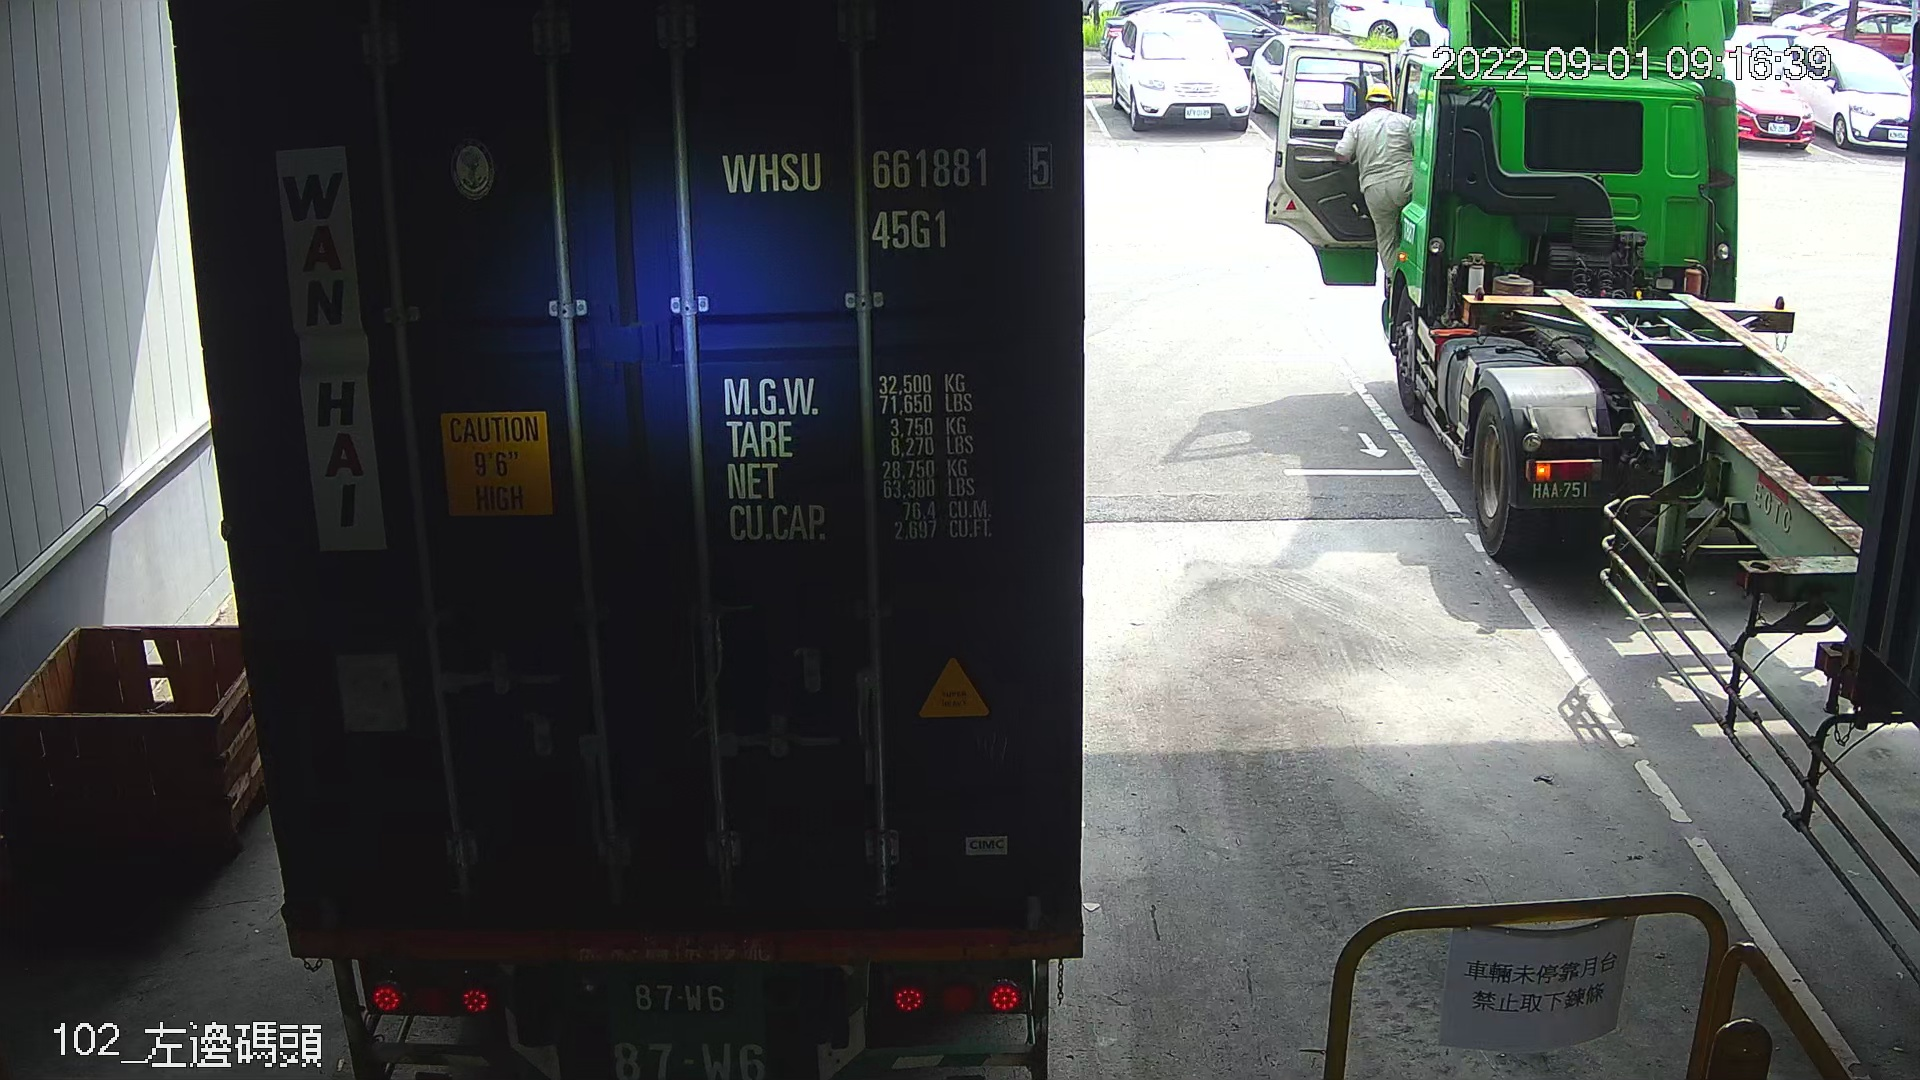container: (709, 135, 1063, 261)
